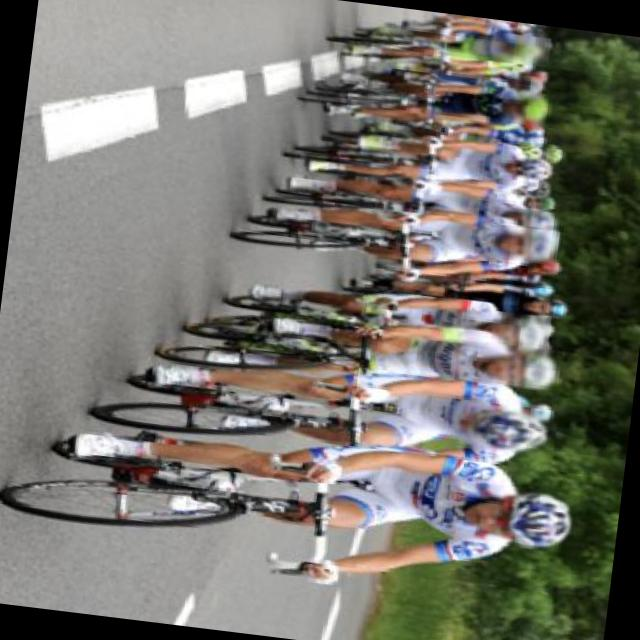With Helmet: (457, 480, 578, 560), (446, 401, 557, 460), (475, 340, 561, 394), (488, 224, 558, 268), (488, 310, 550, 357), (496, 88, 558, 128), (489, 31, 550, 67), (502, 149, 559, 184), (518, 293, 570, 323), (505, 207, 559, 234), (502, 74, 542, 95)
